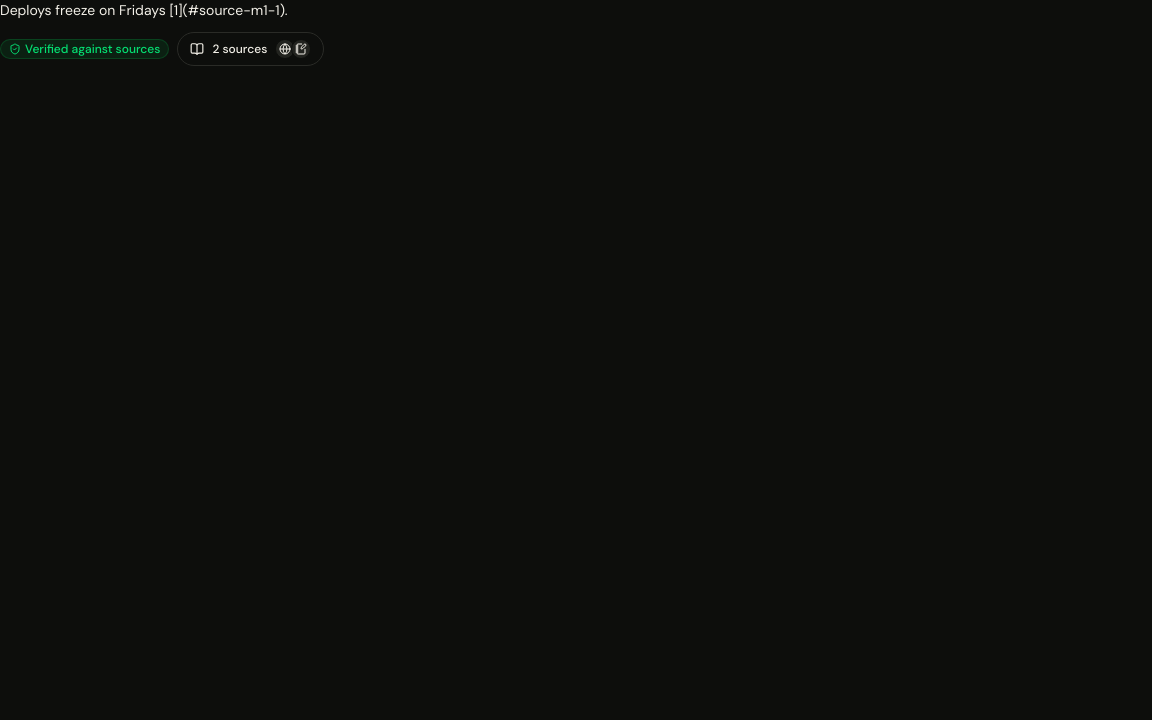
it: AssistantMessage › opens the sheet with cited sources first and the full section that was read
Click the button "2 sources".
click(251, 49)  # box [177, 32, 324, 66]
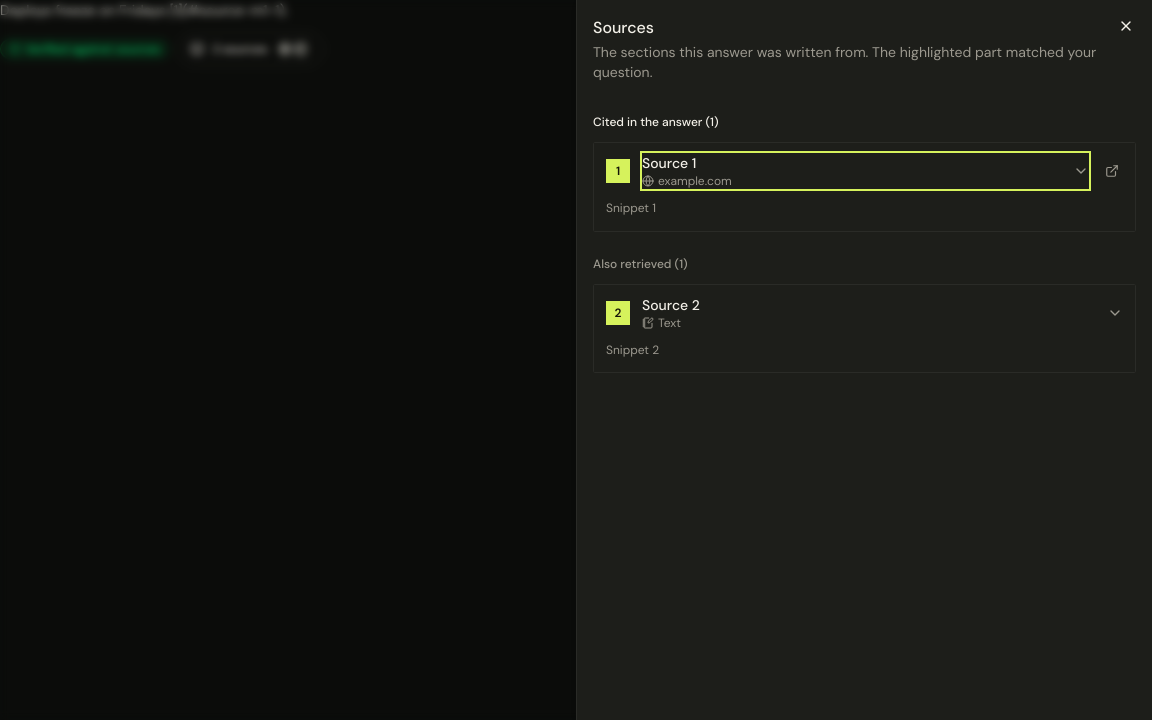
expect the text "Before." is not shown: met
expect the heading "Cited in the answer (1)" is shown: met, box [593, 114, 719, 130]
expect the heading "Also retrieved (1)" is shown: met, box [593, 256, 688, 272]
Click the button "Source 1 example.com".
click(669, 163)  # box [642, 153, 1089, 189]
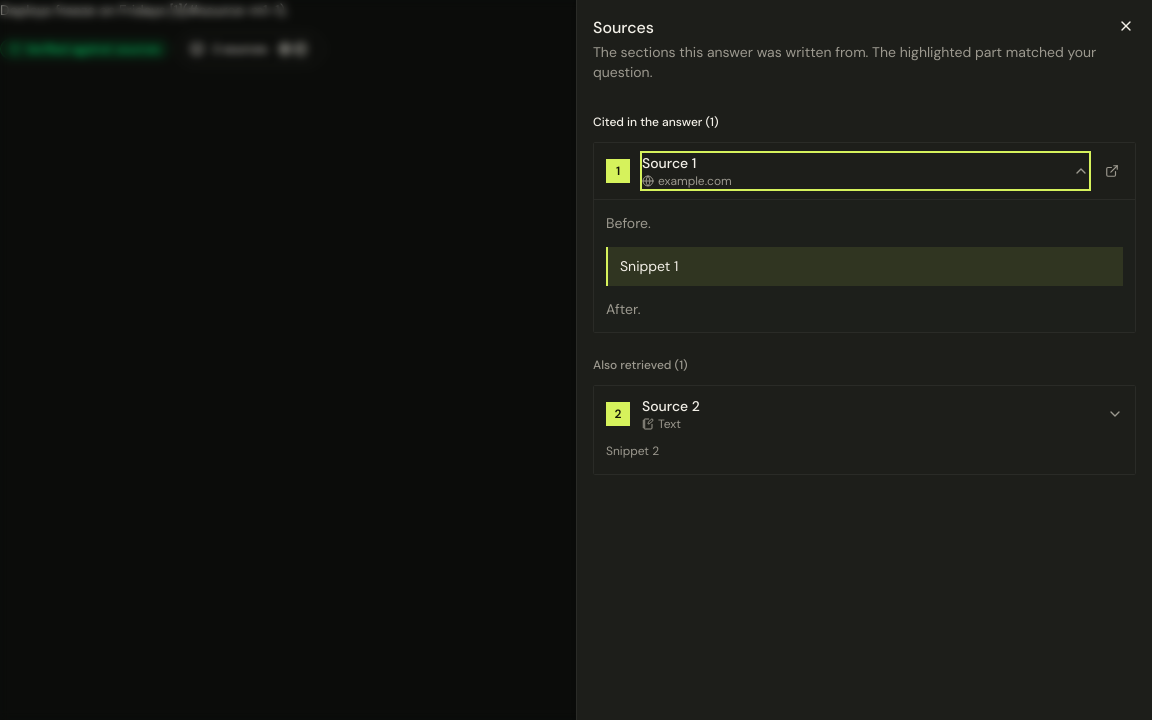
expect the text "Snippet 1" is shown: met, box [606, 247, 1123, 286]
expect the text "Before." is shown: met, box [606, 214, 651, 232]
